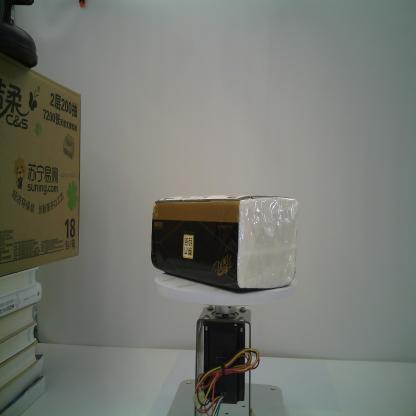Tissue: (148, 193, 302, 292)
